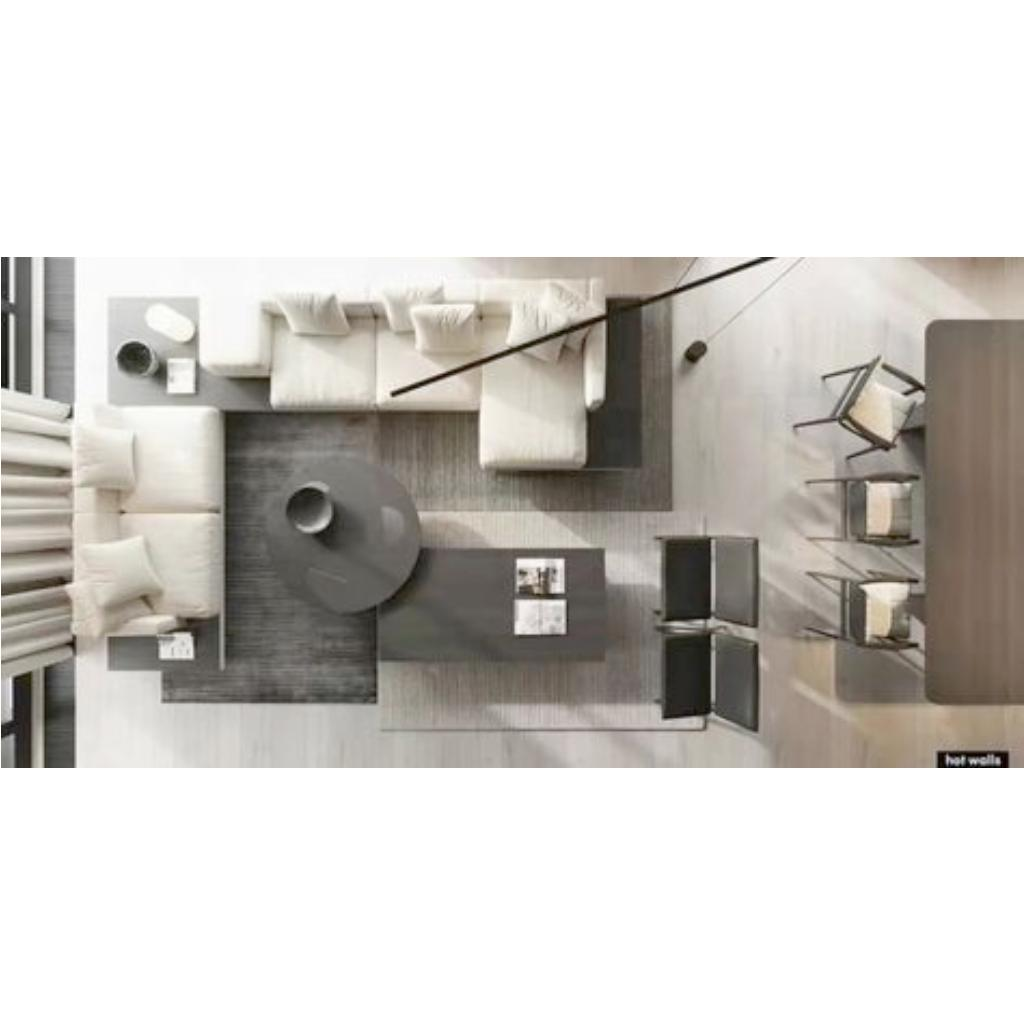chair: (656, 533, 762, 627), (660, 633, 760, 729), (822, 357, 918, 455), (832, 565, 920, 655), (830, 468, 918, 552)
chair-bed: (478, 278, 604, 468)
coffee table: (264, 452, 418, 602), (421, 550, 605, 658)
dining table: (922, 320, 1024, 700)
ottoman: (198, 294, 264, 374)
rug: (124, 295, 672, 505), (158, 290, 374, 704), (378, 512, 718, 724)
side table: (109, 299, 193, 397), (611, 296, 645, 468), (106, 638, 222, 668)
sofa: (74, 408, 220, 630), (268, 278, 476, 408)
window: (0, 508, 16, 768), (2, 257, 16, 507)
